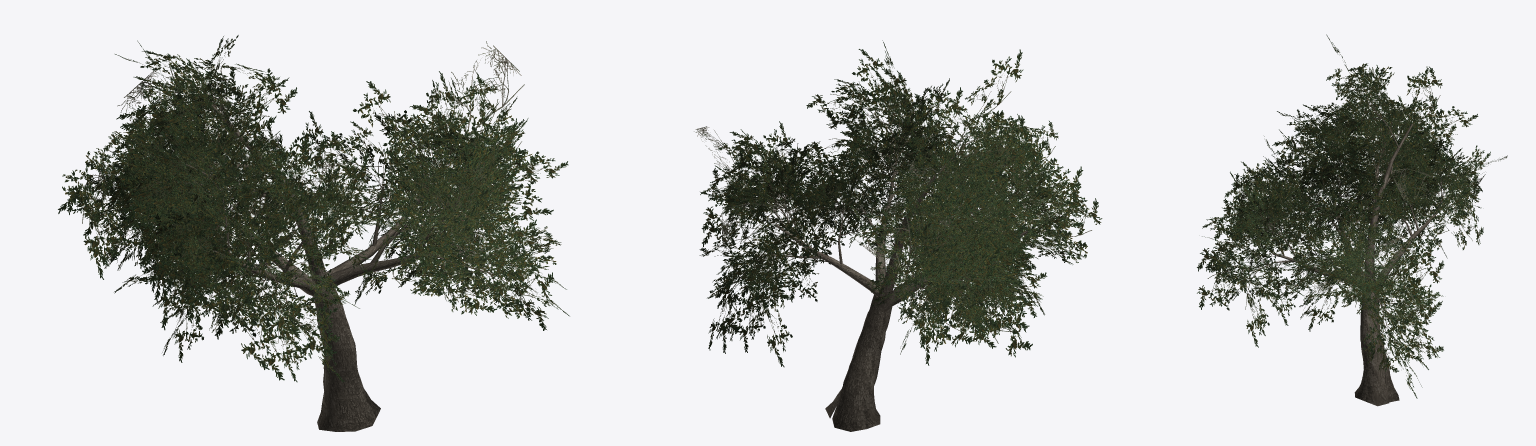
Rendered from tree_v6_oak_healthy_summer.glb.
3 views of the same model, side by side, from view 1: azimuth 30°, elevation 25°; view 2: azimuth 150°, elevation 25°; view 3: azimuth 270°, elevation 25° (orthographic). The views are drawn at different scales.
Visible parts, largest first — view 1: tree_v6_oak_healthy_summer_LOD0; view 2: tree_v6_oak_healthy_summer_LOD0; view 3: tree_v6_oak_healthy_summer_LOD0.
Part boxes in pixels (x1,y1,x2,y2): tree_v6_oak_healthy_summer_LOD0: (58,35,569,431); tree_v6_oak_healthy_summer_LOD0: (694,40,1102,431); tree_v6_oak_healthy_summer_LOD0: (1197,34,1507,406).
Size of what is drawn, in the model's own units: 12.38 by 10.92 by 10.77.
Materials: 1 (1 with a texture image).
